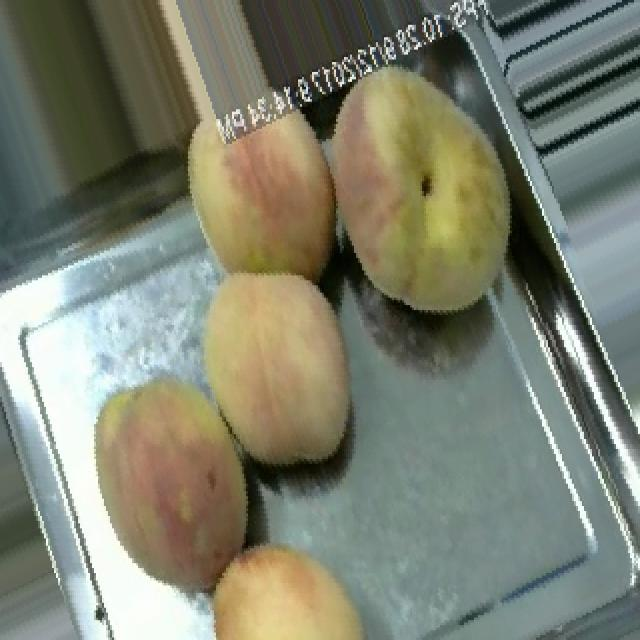Fruit: (324, 35, 550, 340), (62, 350, 290, 622), (166, 251, 380, 496), (154, 84, 336, 315), (182, 518, 400, 640)
